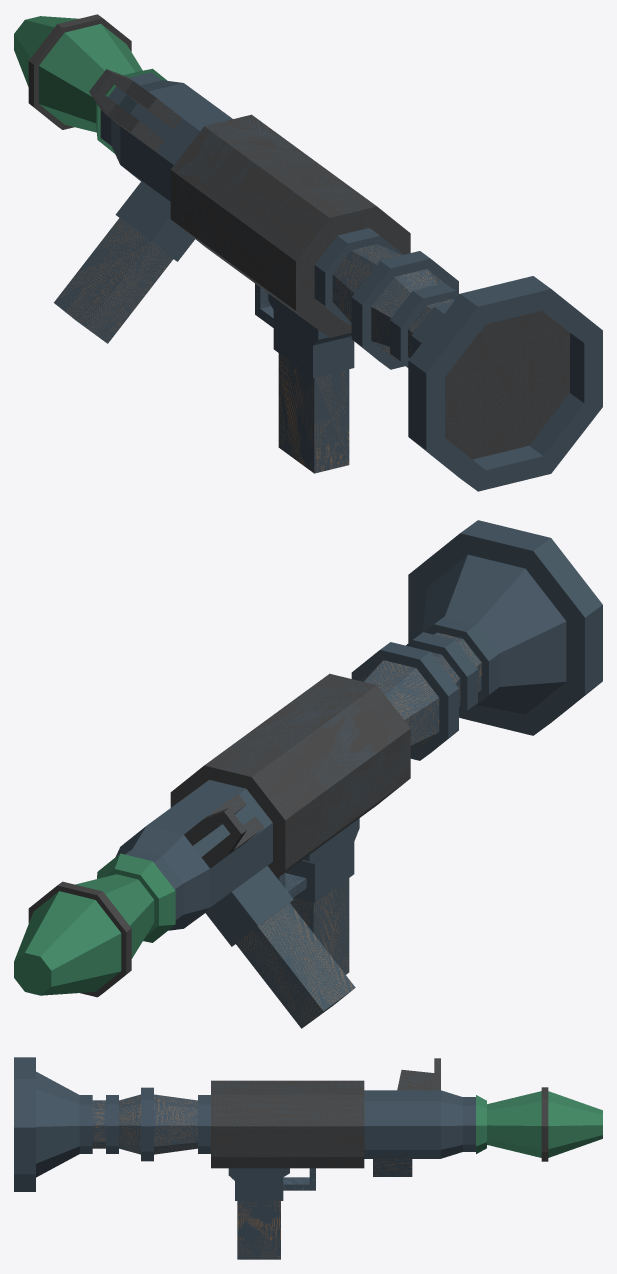
The model's file is rocketlauncherSide.dae.
3 views of the same model, one above another, from view 1: azimuth 30°, elevation 25°; view 2: azimuth 150°, elevation 25°; view 3: azimuth 270°, elevation 25° (orthographic). The views are drawn at different scales.
Visible parts, largest first — view 1: Group (×2); view 2: Group (×2); view 3: Group (×2).
Boxes of the visible parts, <box> form: Group (×2): <box>14,14,602,491</box>; Group (×2): <box>14,520,602,1028</box>; Group (×2): <box>14,1057,602,1259</box>.
Bounding box in the file's own units: 0.2753 × 0.3598 × 1.03.
